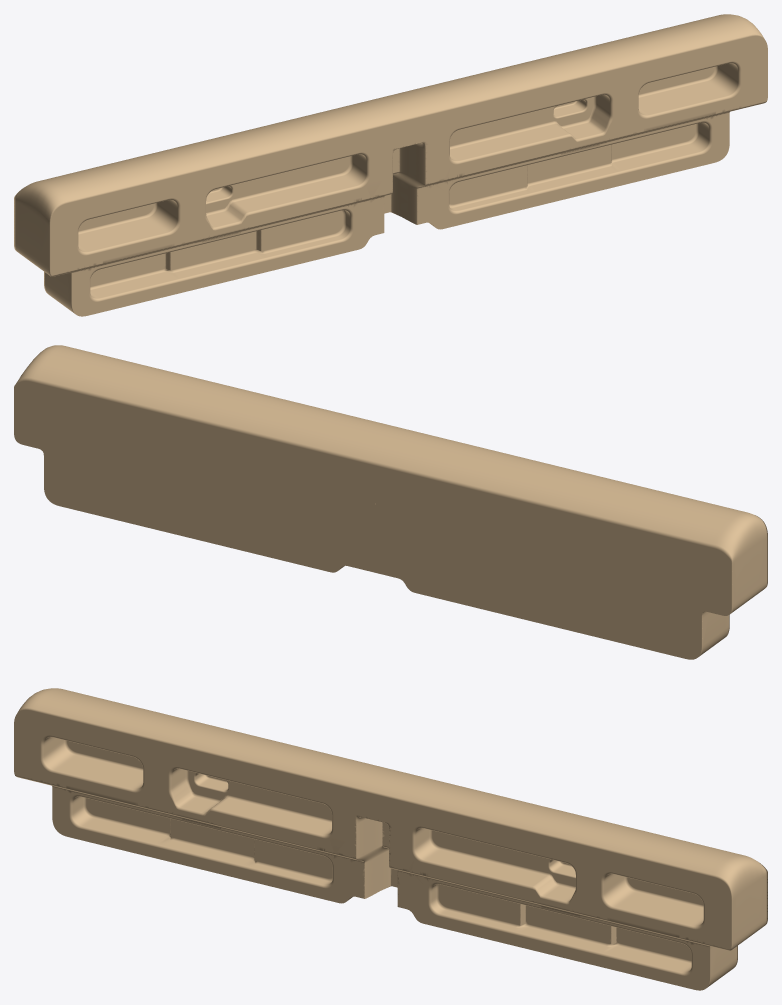
File: frictitious-doormount-pro-7.glb
The picture shows the model from 3 angles, top to bottom: view 1: azimuth 30°, elevation 25°; view 2: azimuth 150°, elevation 25°; view 3: azimuth 330°, elevation 25°; orthographic projection.
Visible parts, largest first — view 1: body--board, hold--jug, hold--left-edge-25, hold--right-edge-25, hold--right-edge-35, hold--left-edge-35, hold--right-edge-20, hold--left-edge-20, hold--left-edge-15, hold--right-edge-15, hold--left-edge-10, hold--right-edge-10; view 2: body--board, hold--jug; view 3: body--board, hold--jug, hold--right-edge-25, hold--left-edge-25, hold--left-edge-35, hold--right-edge-35, hold--left-edge-20, hold--right-edge-20, hold--right-edge-15, hold--left-edge-15, hold--right-edge-10, hold--left-edge-10.
Boxes of the visible parts, left/top/right/bottom form: body--board: left=14, top=36, right=767, bottom=316; hold--jug: left=22, top=14, right=763, bottom=212; hold--left-edge-25: left=205, top=157, right=369, bottom=230; hold--right-edge-25: left=448, top=98, right=613, bottom=164; hold--right-edge-35: left=637, top=65, right=741, bottom=118; hold--left-edge-35: left=77, top=202, right=180, bottom=255; hold--right-edge-20: left=610, top=126, right=712, bottom=174; hold--left-edge-20: left=89, top=269, right=180, bottom=301; hold--left-edge-15: left=172, top=249, right=267, bottom=281; hold--right-edge-15: left=527, top=163, right=620, bottom=195; hold--left-edge-10: left=257, top=218, right=353, bottom=260; hold--right-edge-10: left=448, top=186, right=534, bottom=214; body--board: left=14, top=370, right=767, bottom=659; hold--jug: left=24, top=345, right=764, bottom=549; body--board: left=14, top=710, right=767, bottom=990; hold--jug: left=18, top=688, right=758, bottom=886; hold--right-edge-25: left=412, top=831, right=576, bottom=904; hold--left-edge-25: left=168, top=772, right=333, bottom=838; hold--left-edge-35: left=40, top=739, right=144, bottom=792; hold--right-edge-35: left=601, top=875, right=704, bottom=929; hold--left-edge-20: left=69, top=800, right=171, bottom=848; hold--right-edge-20: left=601, top=943, right=692, bottom=975; hold--right-edge-15: left=514, top=923, right=609, bottom=955; hold--left-edge-15: left=161, top=837, right=254, bottom=869; hold--right-edge-10: left=428, top=892, right=524, bottom=934; hold--left-edge-10: left=247, top=860, right=333, bottom=888.
Bounding box in the file's own units: 0.6477 × 0.1143 × 0.0571.
